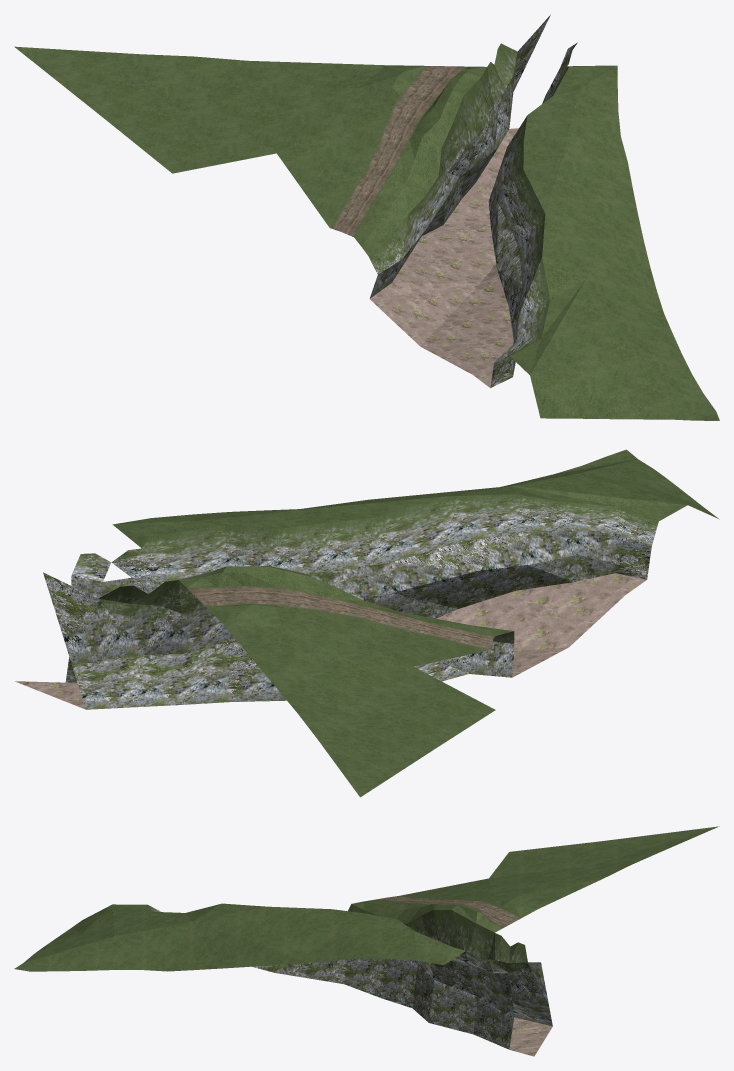
File: cunteground26.obj
3 views of the same model, one above another, from view 1: azimuth 30°, elevation 25°; view 2: azimuth 150°, elevation 25°; view 3: azimuth 270°, elevation 25° (orthographic). The views are drawn at different scales.
Parts seen in each view (by area): view 1: cuntEground26; view 2: cuntEground26; view 3: cuntEground26.
Boxes of the visible parts, <box> form: cuntEground26: <box>14,14,719,420</box>; cuntEground26: <box>15,449,719,797</box>; cuntEground26: <box>14,826,719,1056</box>.
Bounding box in the file's own units: 184 × 51.58 × 340.
5 materials, 5 textured.
